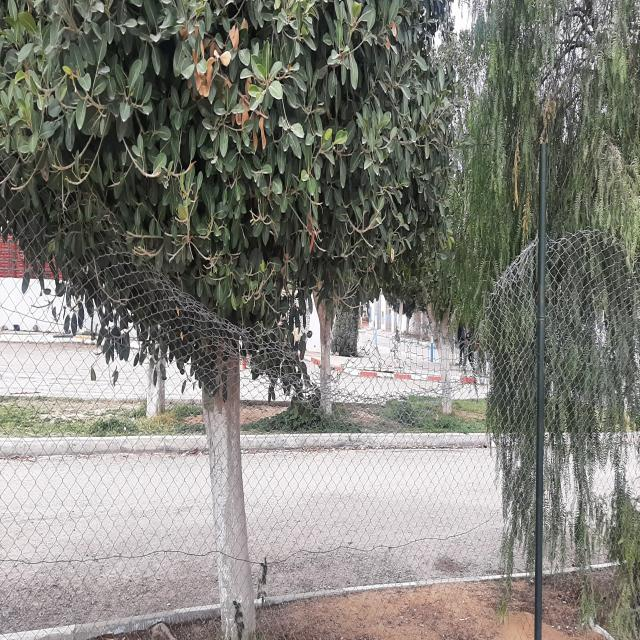fence line: (201, 266, 504, 405)
